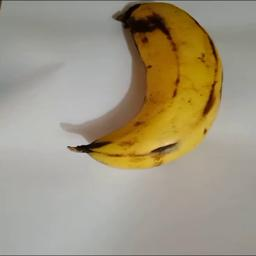Banana Semifresh: (69, 1, 226, 171)
